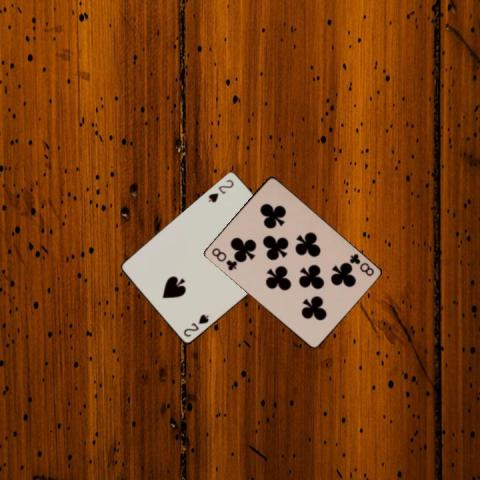2s: (206, 176, 236, 204), (181, 311, 210, 339)
8c: (209, 245, 238, 272), (346, 251, 375, 277)
